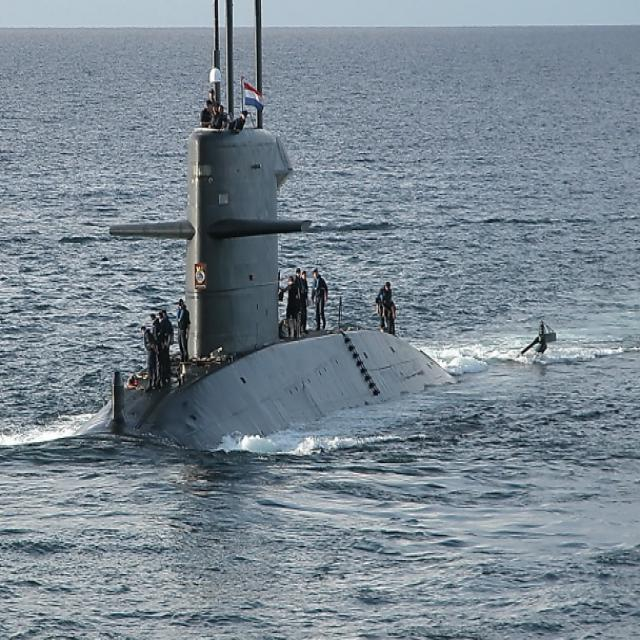submarine: (98, 1, 572, 460)
